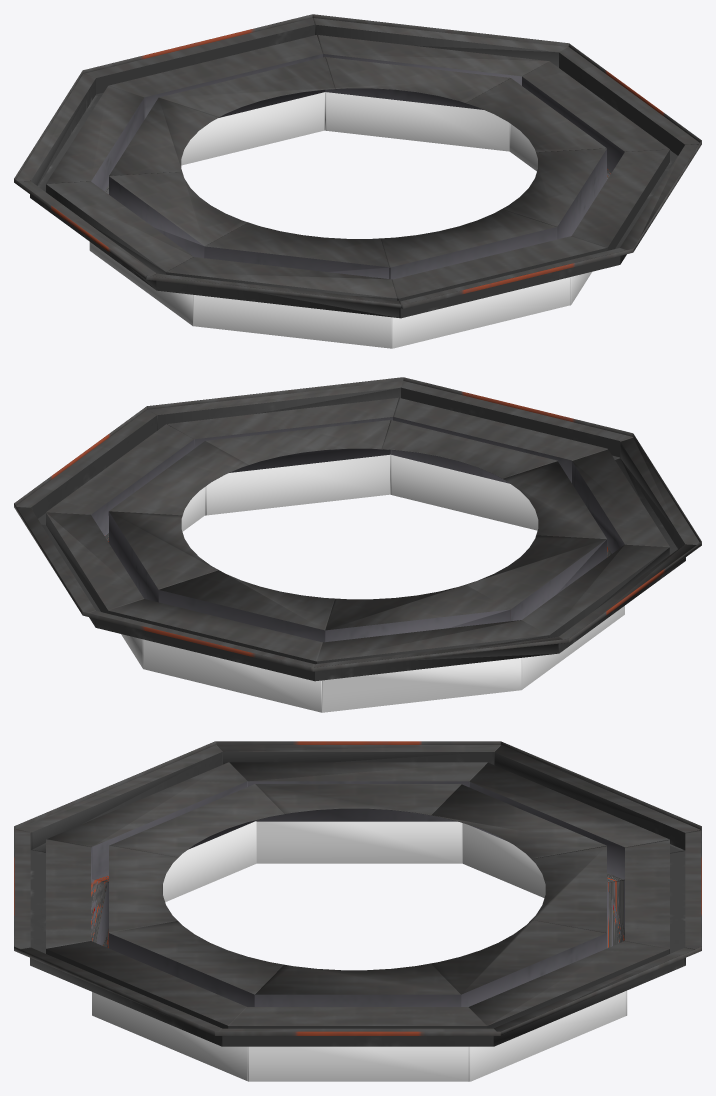
Rendered from 1_Engine_Mount.fbx.
The picture shows the model from 3 angles, top to bottom: view 1: azimuth 30°, elevation 25°; view 2: azimuth 150°, elevation 25°; view 3: azimuth 270°, elevation 25°; orthographic projection. The views are drawn at different scales.
Parts seen in each view (by area): view 1: 1_Engine_Mount_seg05, 1_Engine_Mount_seg01, 1_Engine_Mount_seg06, 1_Engine_Mount_seg02, 1_Engine_Mount_seg08, 1_Engine_Mount_seg04, 1_Engine_Mount_seg07, 1_Engine_Mount_seg03; view 2: 1_Engine_Mount_seg03, 1_Engine_Mount_seg07, 1_Engine_Mount_seg02, 1_Engine_Mount_seg06, 1_Engine_Mount_seg08, 1_Engine_Mount_seg04, 1_Engine_Mount_seg05, 1_Engine_Mount_seg01; view 3: 1_Engine_Mount_seg08, 1_Engine_Mount_seg04, 1_Engine_Mount_seg05, 1_Engine_Mount_seg01, 1_Engine_Mount_seg03, 1_Engine_Mount_seg07, 1_Engine_Mount_seg06, 1_Engine_Mount_seg02.
Part boxes in pixels (left/top/right/bottom): 1_Engine_Mount_seg05: left=312, top=14, right=568, bottom=151; 1_Engine_Mount_seg01: left=146, top=222, right=401, bottom=348; 1_Engine_Mount_seg06: left=83, top=14, right=334, bottom=165; 1_Engine_Mount_seg02: left=381, top=209, right=633, bottom=348; 1_Engine_Mount_seg08: left=14, top=171, right=247, bottom=325; 1_Engine_Mount_seg04: left=466, top=43, right=701, bottom=179; 1_Engine_Mount_seg07: left=14, top=70, right=218, bottom=194; 1_Engine_Mount_seg03: left=502, top=140, right=701, bottom=304; 1_Engine_Mount_seg03: left=147, top=377, right=403, bottom=515; 1_Engine_Mount_seg07: left=312, top=584, right=568, bottom=712; 1_Engine_Mount_seg02: left=381, top=377, right=633, bottom=530; 1_Engine_Mount_seg06: left=82, top=570, right=334, bottom=712; 1_Engine_Mount_seg08: left=466, top=535, right=701, bottom=689; 1_Engine_Mount_seg04: left=14, top=406, right=248, bottom=542; 1_Engine_Mount_seg05: left=14, top=503, right=218, bottom=668; 1_Engine_Mount_seg01: left=503, top=434, right=701, bottom=560; 1_Engine_Mount_seg08: left=216, top=741, right=500, bottom=863; 1_Engine_Mount_seg04: left=215, top=963, right=500, bottom=1081; 1_Engine_Mount_seg05: left=431, top=919, right=701, bottom=1081; 1_Engine_Mount_seg01: left=16, top=741, right=283, bottom=901; 1_Engine_Mount_seg03: left=14, top=921, right=283, bottom=1080; 1_Engine_Mount_seg07: left=431, top=741, right=701, bottom=897; 1_Engine_Mount_seg06: left=531, top=826, right=701, bottom=1015; 1_Engine_Mount_seg02: left=14, top=825, right=178, bottom=953.
Bounding box in the file's own units: 25.06 × 3.3 × 25.06.
